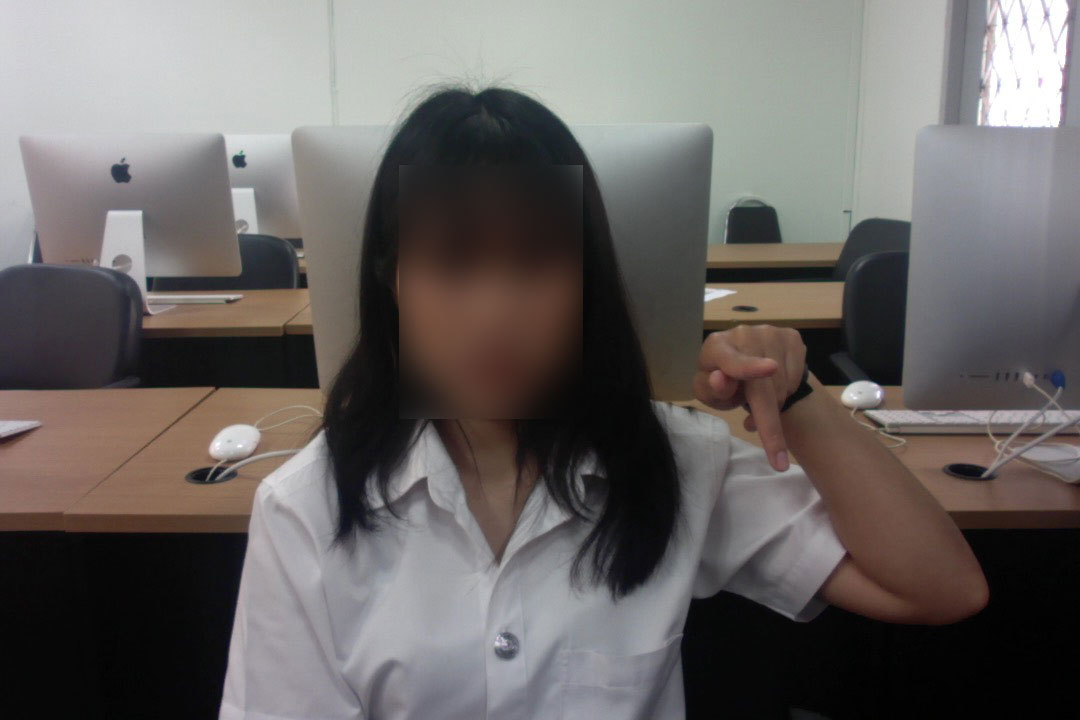por: (688, 315, 813, 478)
